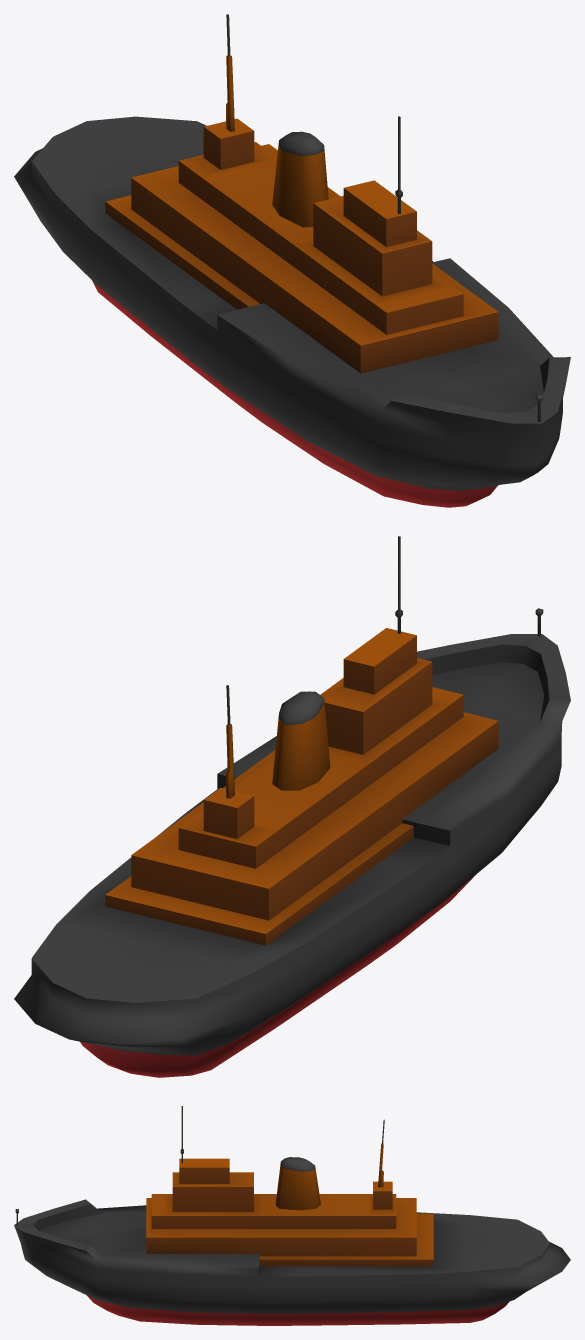
File: vehicles-boats-tugboat_v1.fbx
3 views of the same model, one above another, from view 1: azimuth 30°, elevation 25°; view 2: azimuth 150°, elevation 25°; view 3: azimuth 270°, elevation 25° (orthographic). The views are drawn at different scales.
Visible parts, largest first — view 1: Tugboat; view 2: Tugboat; view 3: Tugboat.
Boxes of the visible parts, x1=… form: Tugboat: x1=14, y1=14, x2=570, y2=507; Tugboat: x1=14, y1=536, x2=570, y2=1077; Tugboat: x1=14, y1=1106, x2=570, y2=1325.
Bounding box in the file's own units: 8.52 × 11.91 × 30.
